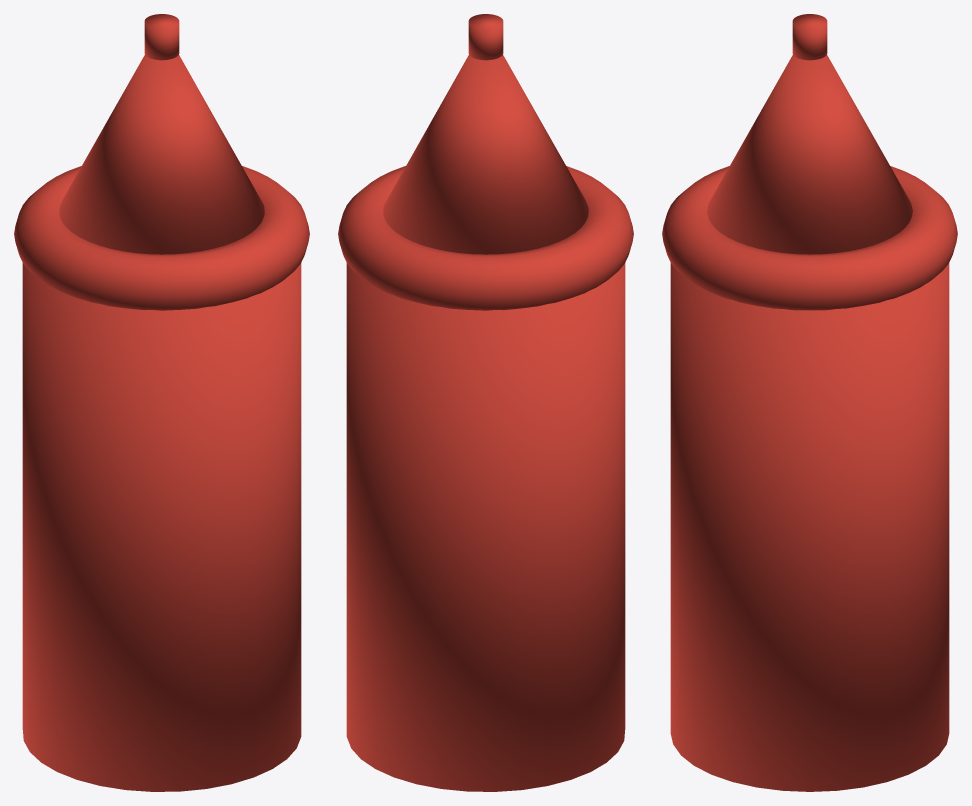
The model's file is bottles.fbx.
The picture shows the model from 3 angles, left to right: view 1: azimuth 30°, elevation 25°; view 2: azimuth 150°, elevation 25°; view 3: azimuth 270°, elevation 25°; orthographic projection.
Visible parts, largest first — view 1: Bottle; view 2: Bottle; view 3: Bottle.
Part boxes in pixels (x1,y1,x2,y2): Bottle: [14, 14, 309, 791]; Bottle: [338, 14, 633, 791]; Bottle: [662, 14, 957, 791].
Size of the model in its own units: 94.74 by 252 by 94.74.
